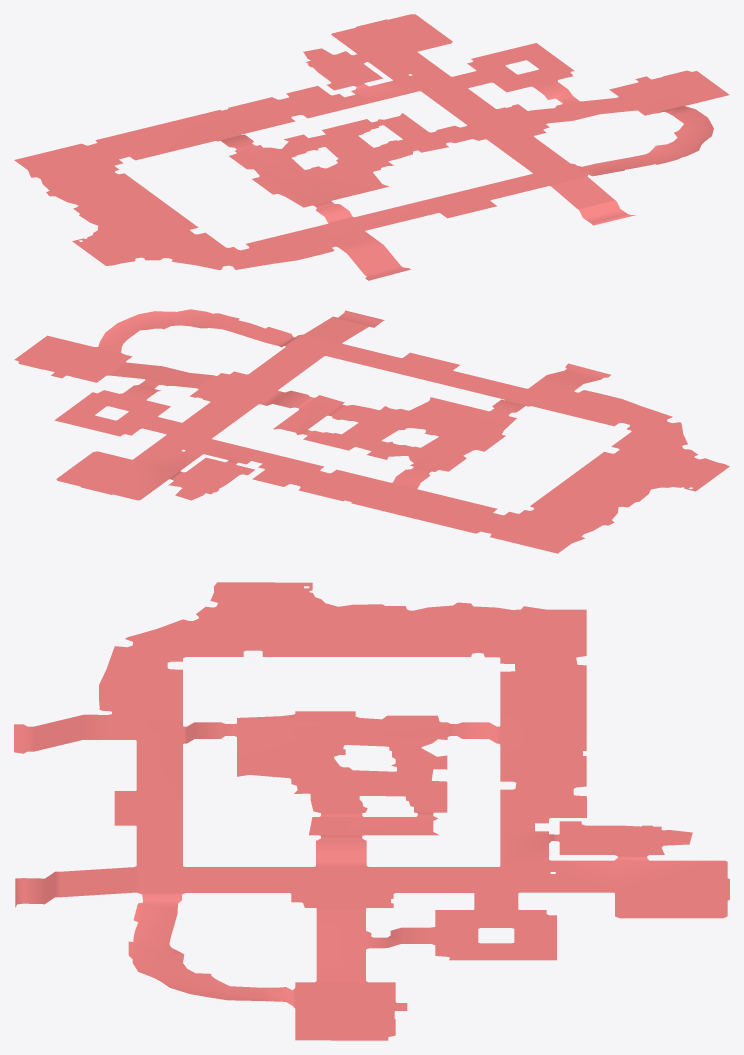
Rendered from Prohibited_CHAPEL.fbx.
The picture shows the model from 3 angles, top to bottom: view 1: azimuth 30°, elevation 25°; view 2: azimuth 150°, elevation 25°; view 3: azimuth 270°, elevation 25°; orthographic projection. The views are drawn at different scales.
Visible parts, largest first — view 1: Church; view 2: Church; view 3: Church.
Boxes of the visible parts, x1,y1,x2,y2 form: Church: [14, 14, 729, 280]; Church: [14, 309, 729, 553]; Church: [14, 582, 729, 1040].
Bounding box in the file's own units: 81.87 × 1.44 × 55.51.
